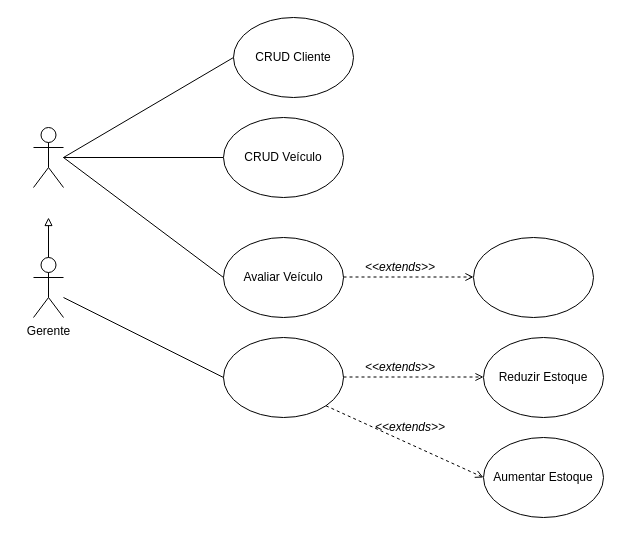
Some shapes in this 621 by 535 pixel diagram are drawn without their labels. Each missing label, with the centre of its shape:
"Avaliar Estoque de Veículos" belongs at (283,377).
"Enviar Para Manutenção" belongs at (533,277).
"Funcionário" belongs at (48,157).
